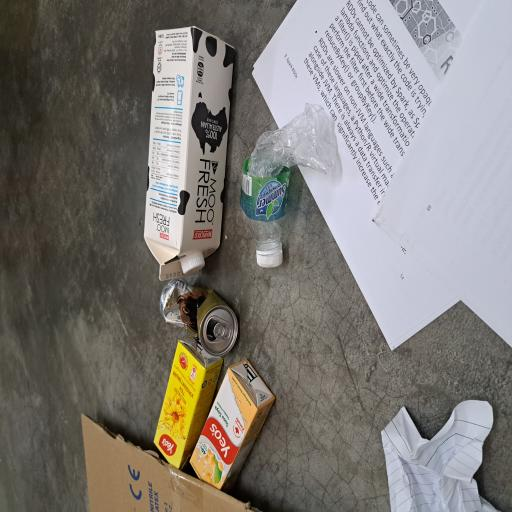can: (117, 212, 175, 318)
cardboard: (0, 108, 77, 344)
drink carton: (174, 191, 364, 317), (15, 252, 116, 366), (33, 202, 131, 296)
paper: (120, 339, 384, 512)
plastic bottle: (199, 321, 307, 448)
plastic bottle cap: (183, 342, 198, 378), (177, 243, 193, 274)
pop tab: (129, 284, 142, 310)
